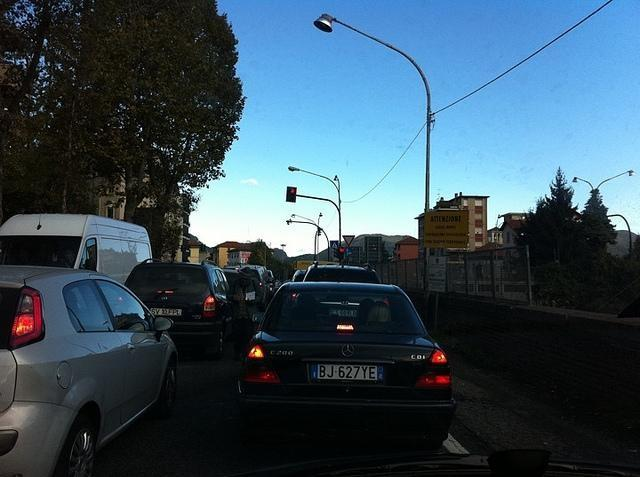car: (1, 266, 184, 477), (238, 282, 458, 454), (125, 259, 234, 357), (221, 263, 272, 315), (304, 260, 382, 282), (292, 268, 307, 282), (267, 270, 275, 296)
truck: (0, 214, 154, 284)
